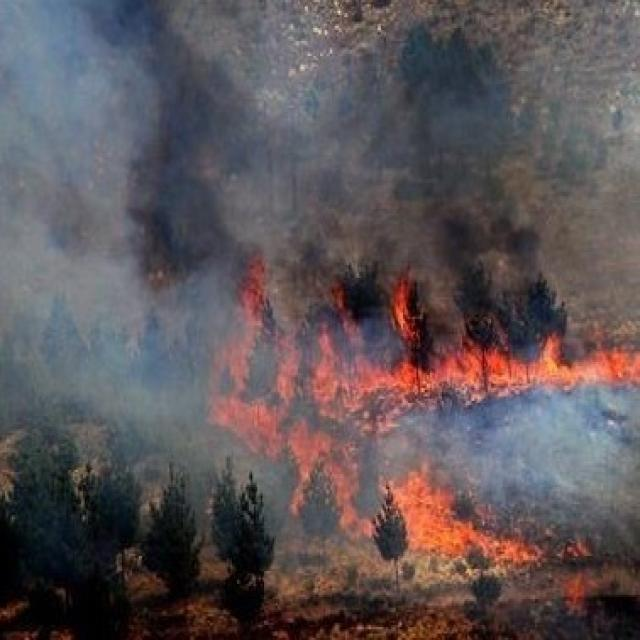Fire: (210, 242, 640, 574)
Smoke: (1, 2, 640, 515)
